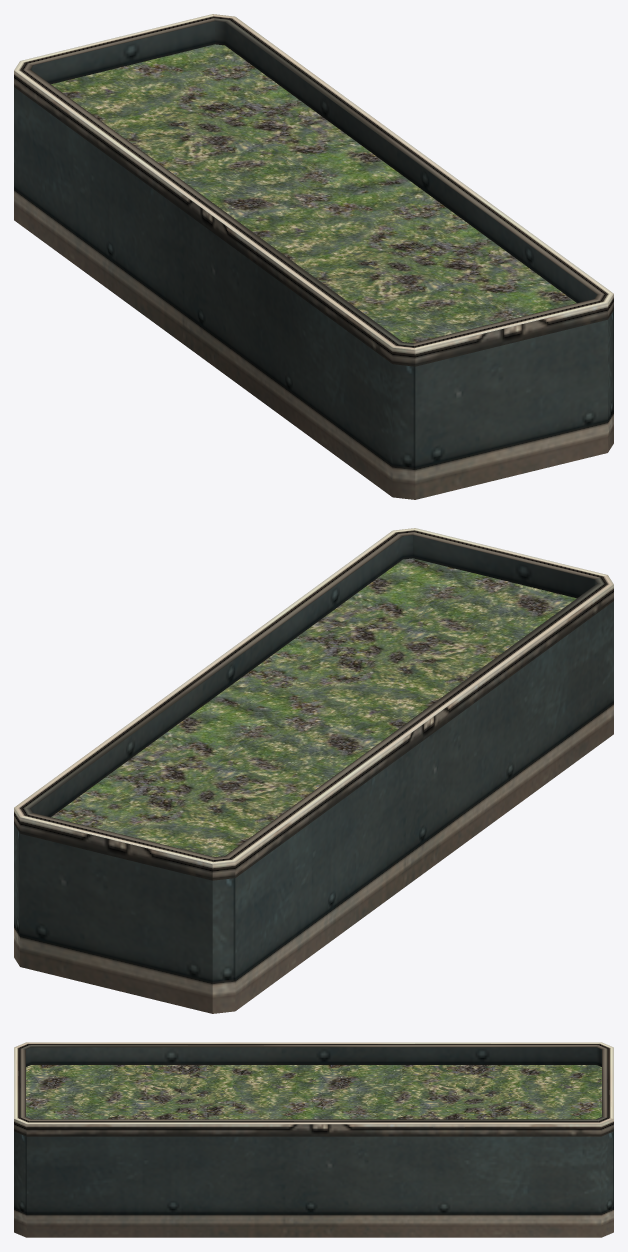
Rendered from mprw_plantbox.FBX.
3 views of the same model, one above another, from view 1: azimuth 30°, elevation 25°; view 2: azimuth 150°, elevation 25°; view 3: azimuth 270°, elevation 25° (orthographic). The views are drawn at different scales.
Visible parts, largest first — view 1: mprw_plantbox; view 2: mprw_plantbox; view 3: mprw_plantbox.
Boxes of the visible parts, x1=… form: mprw_plantbox: x1=14, y1=14, x2=613, y2=499; mprw_plantbox: x1=14, y1=528, x2=613, y2=1013; mprw_plantbox: x1=14, y1=1042, x2=613, y2=1237.
Bounding box in the file's own units: 201 × 130 × 622.
Materials: 2 (2 with a texture image).
